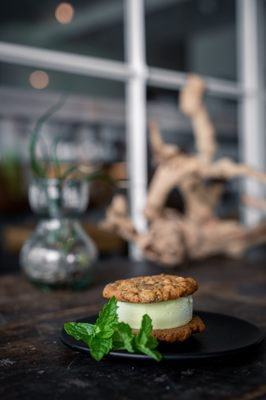curry: (1, 243, 264, 399)
